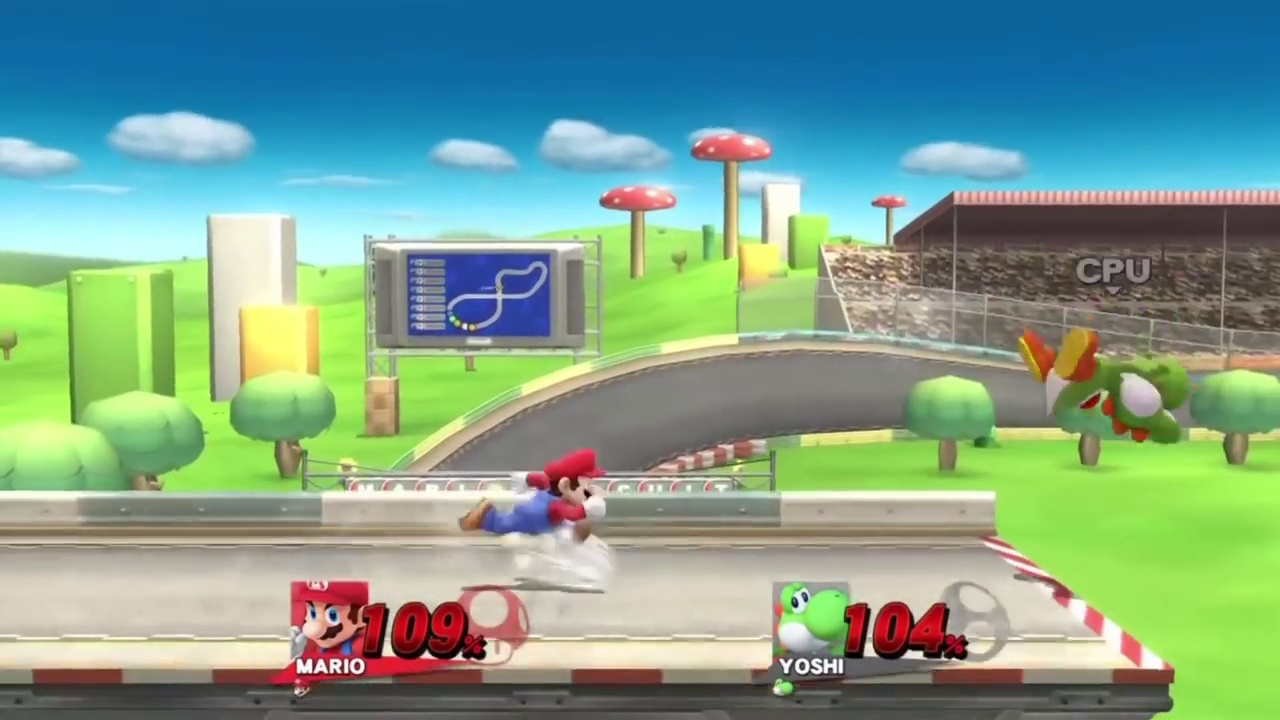Mario: (459, 450, 611, 556)
